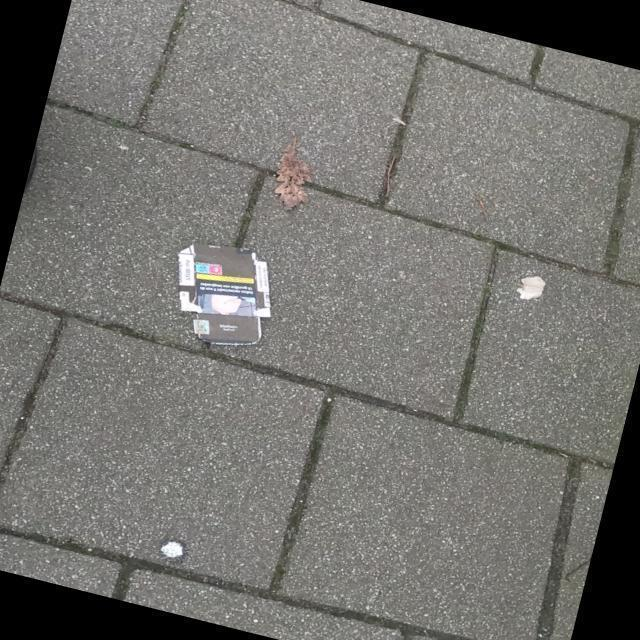Paper: (178, 241, 272, 349)
